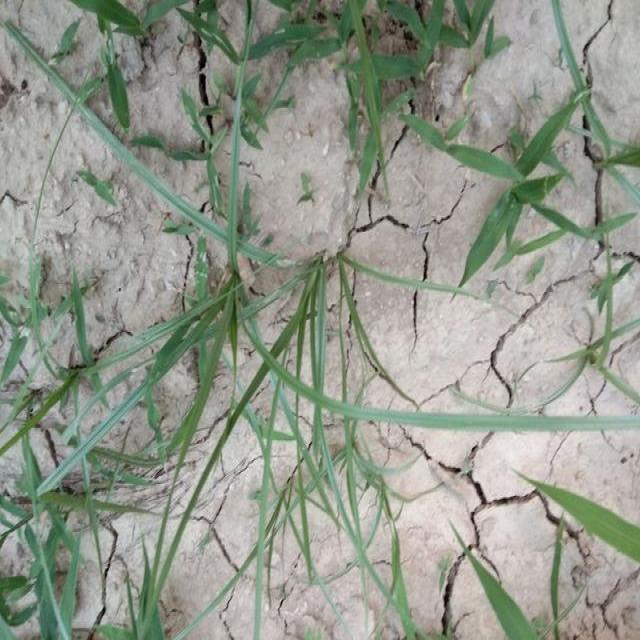weed: (238, 255, 415, 613), (104, 314, 258, 610), (0, 304, 98, 640), (476, 126, 594, 285), (345, 0, 444, 185), (218, 0, 543, 52), (66, 0, 183, 121), (600, 118, 640, 392), (517, 476, 640, 562), (458, 533, 547, 637), (196, 74, 272, 176)
